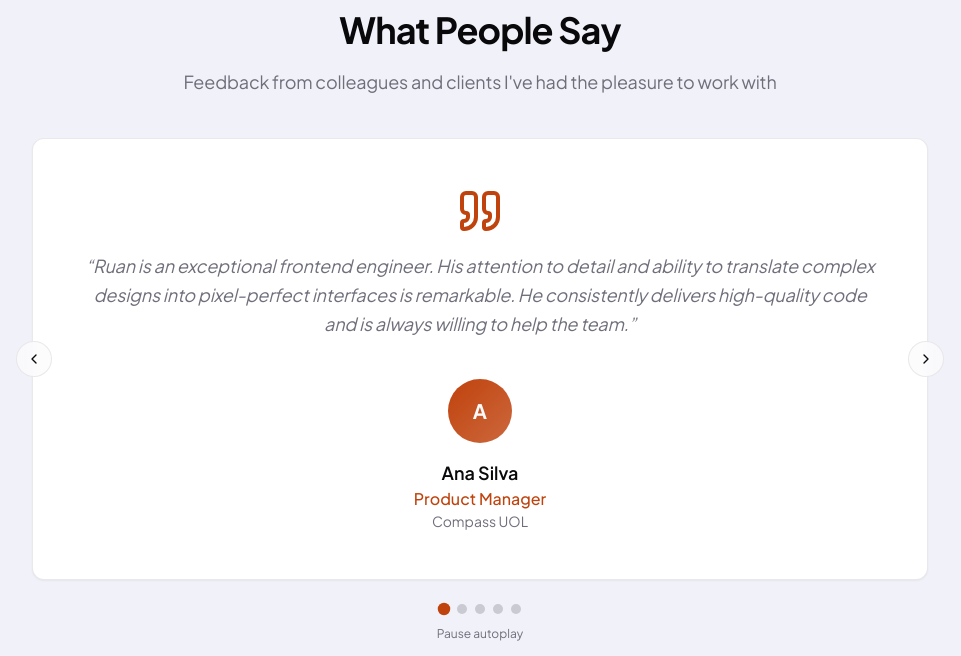
Test: TestimonialsSection › pauses autoplay and stops advancing when toggled
Click the button "Pause autoplay" at [480, 634], box x1=429 y1=622 x2=531 y2=646
Wait 10000 ms
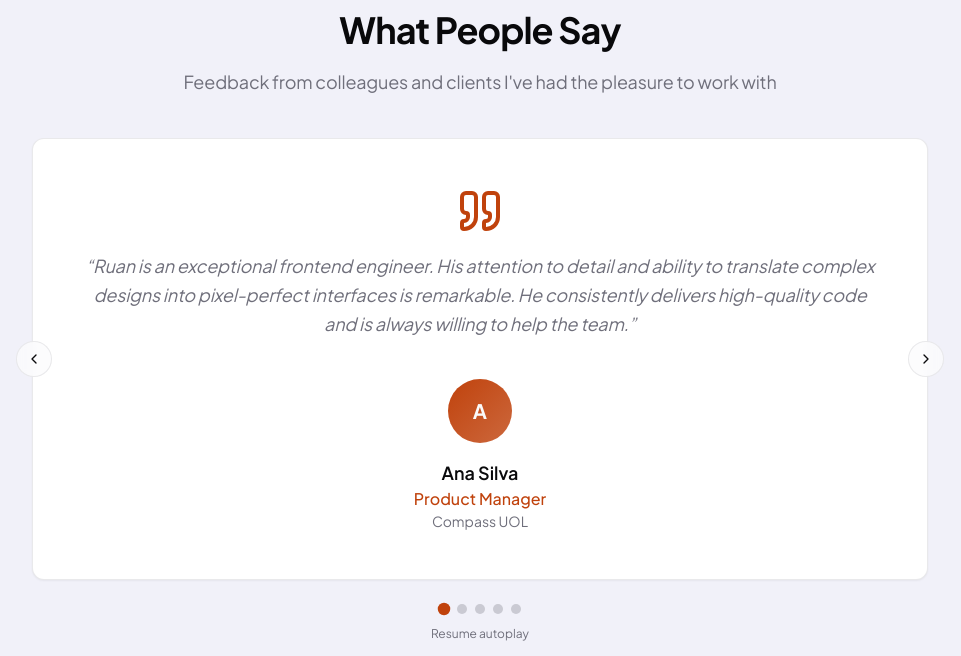
Check: the heading "Ana Silva" is shown, box x1=442 y1=458 x2=518 y2=486
Check: the button "Resume autoplay" is shown, box x1=423 y1=622 x2=537 y2=646
